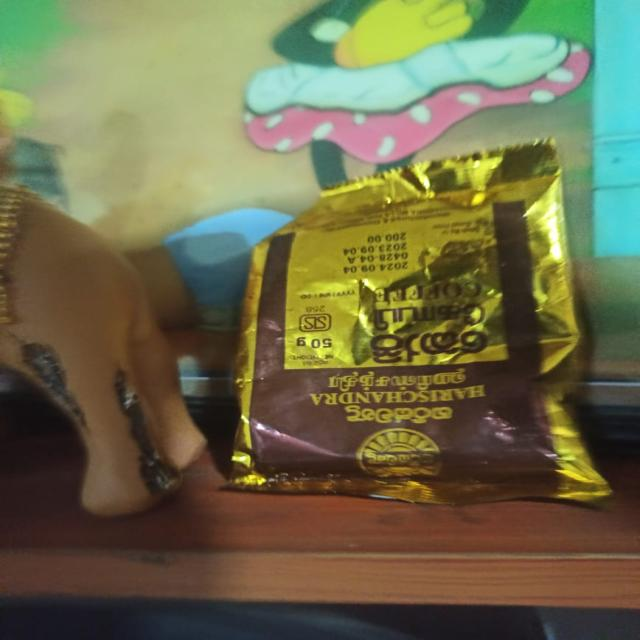Harischandra Coffee: (216, 168, 613, 496)
